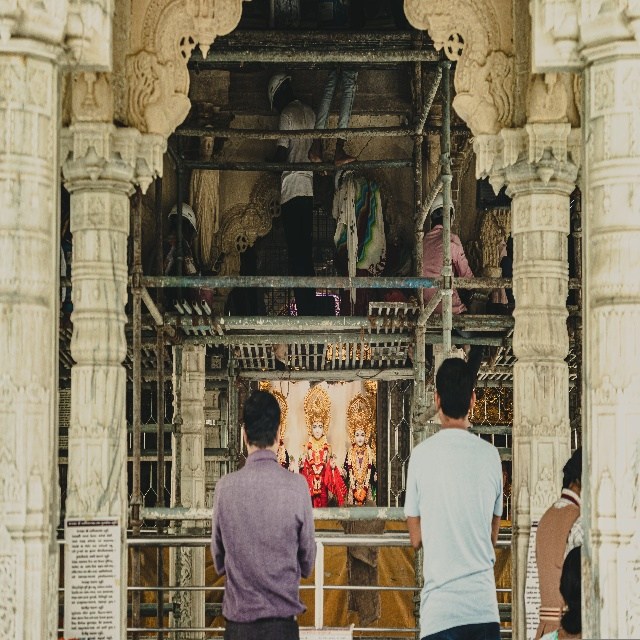Sin_guantes: (328, 452, 338, 471), (288, 455, 295, 473), (298, 455, 305, 471), (339, 467, 346, 478)
